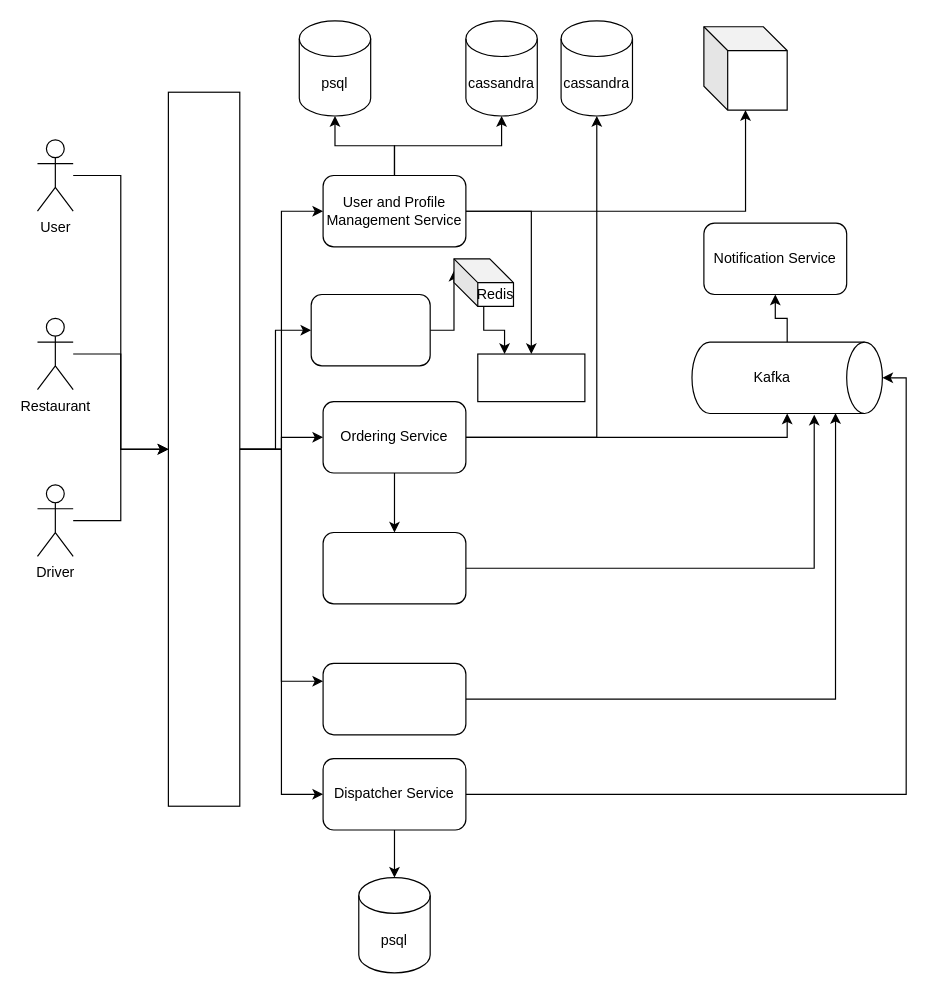
The diagram is 937 pixels wide and 994 high, and some of its shapes have lost their labels. Here are the shapes that lost their labels. From the top down, the box of each, then its label:
(703, 26, 787, 110): S3 Storage
(310, 293, 430, 366): Serach Service
(477, 353, 585, 402): Elastic Search
(167, 91, 240, 806): Load Balancer
(322, 531, 466, 604): Payment Service
(322, 662, 466, 735): Order Confirmation Service
